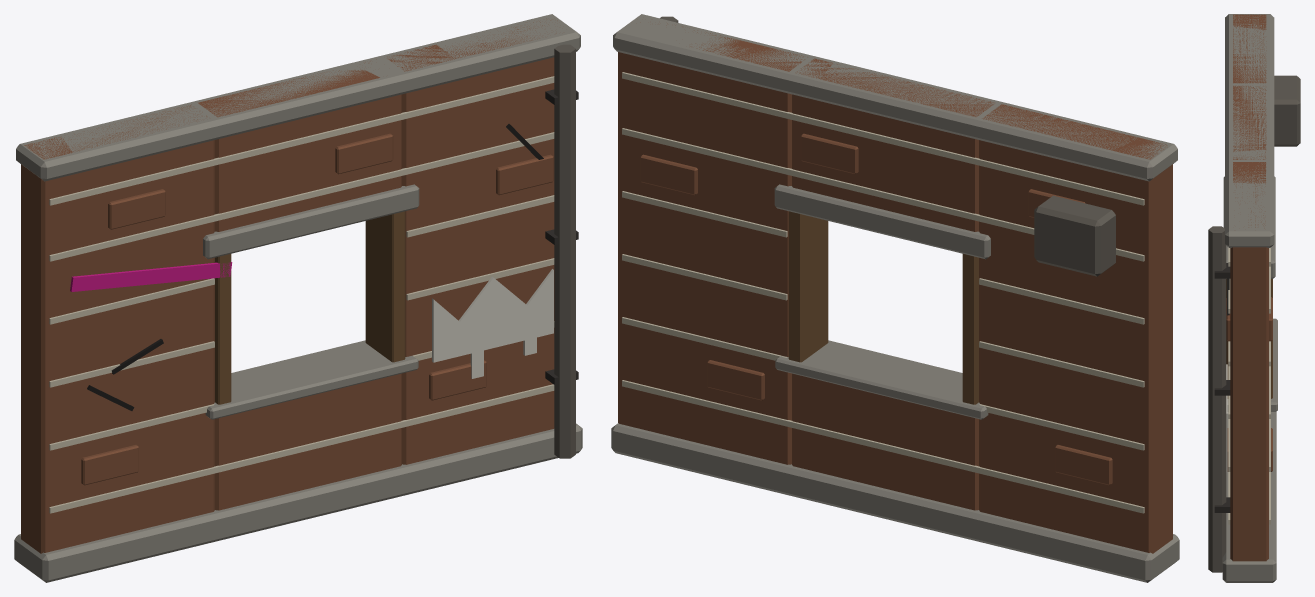
File: b_wall_window_chunks.glb
3 views of the same model, side by side, from view 1: azimuth 30°, elevation 25°; view 2: azimuth 150°, elevation 25°; view 3: azimuth 270°, elevation 25° (orthographic). The views are drawn at different scales.
Visible parts, largest first — view 1: chunk_3, chunk_2, chunk_7, chunk_0, chunk_6, chunk_4, chunk_5, chunk_1; view 2: chunk_3, chunk_7, chunk_0, chunk_2, chunk_4, chunk_6, chunk_5, chunk_1; view 3: chunk_7, chunk_6, chunk_3, chunk_5, chunk_1, chunk_4, chunk_2.
Boxes of the visible parts, x1,y1,x2,y2 form: chunk_3: (60,63,385,334); chunk_2: (118,321,342,551); chunk_7: (434,14,580,290); chunk_0: (14,334,172,582); chunk_6: (444,277,582,485); chunk_4: (300,289,452,516); chunk_5: (351,43,460,298); chunk_1: (16,134,117,344); chunk_3: (817,61,1143,341); chunk_7: (613,14,759,298); chunk_0: (1007,330,1179,582); chunk_2: (862,329,1063,548); chunk_4: (744,280,885,518); chunk_6: (611,281,748,485); chunk_5: (733,43,838,309); chunk_1: (1058,136,1177,352); chunk_7: (1208,183,1274,441); chunk_6: (1208,395,1276,582); chunk_3: (1223,26,1300,237); chunk_5: (1225,149,1275,355); chunk_1: (1225,14,1300,89); chunk_4: (1226,346,1277,508); chunk_2: (1227,318,1277,453).
Bounding box in the file's own units: 4.04 × 3 × 0.715.
